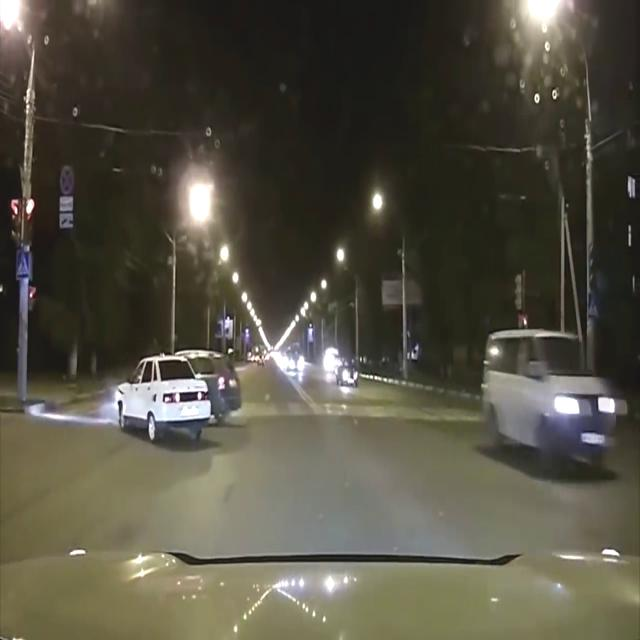accident: (112, 346, 244, 446)
